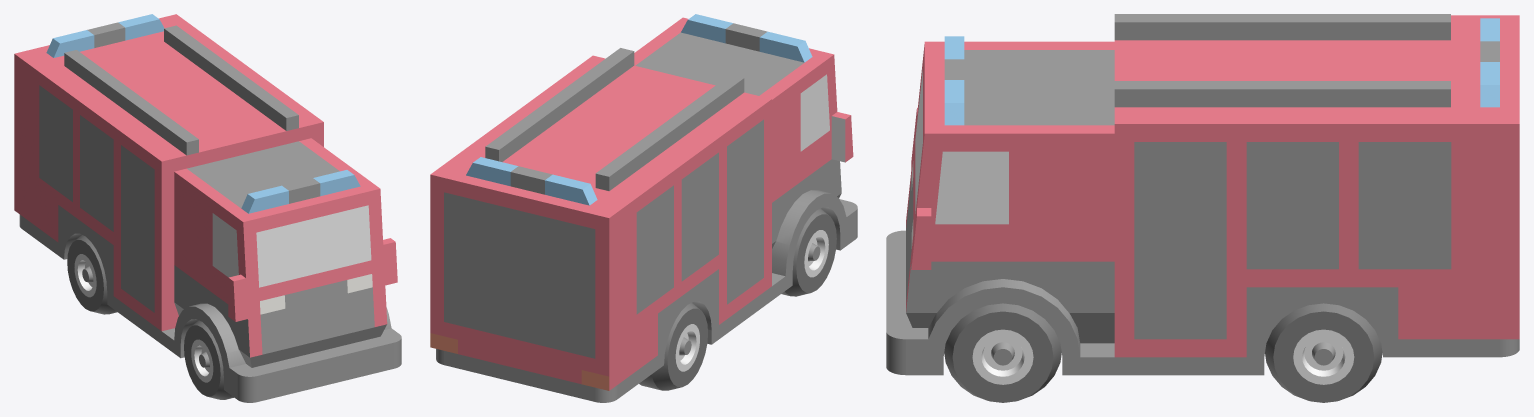
The model's file is firetruck.gltf.
3 renders of one model, left to right at view 1: azimuth 30°, elevation 25°; view 2: azimuth 150°, elevation 25°; view 3: azimuth 270°, elevation 25°, orthographic. The views are drawn at different scales.
Visible parts, largest first — view 1: firetruck; view 2: firetruck; view 3: firetruck.
Boxes of the visible parts, x1,y1,x2,y2 form: firetruck: (14,14,401,402); firetruck: (430,14,857,402); firetruck: (886,14,1519,402).
Bounding box in the file's own units: 0.975 × 1.28 × 2.4.
